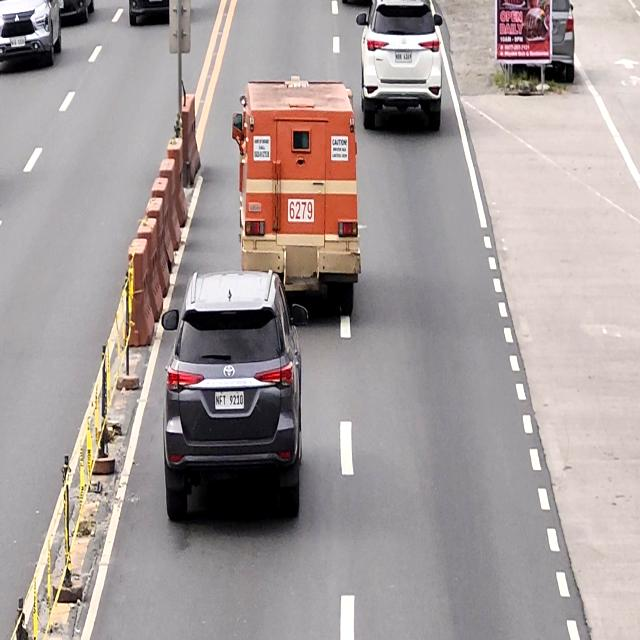Car: (159, 272, 308, 526), (230, 78, 362, 315), (355, 0, 443, 134)
License-Plate: (214, 392, 244, 410), (394, 52, 413, 64)
